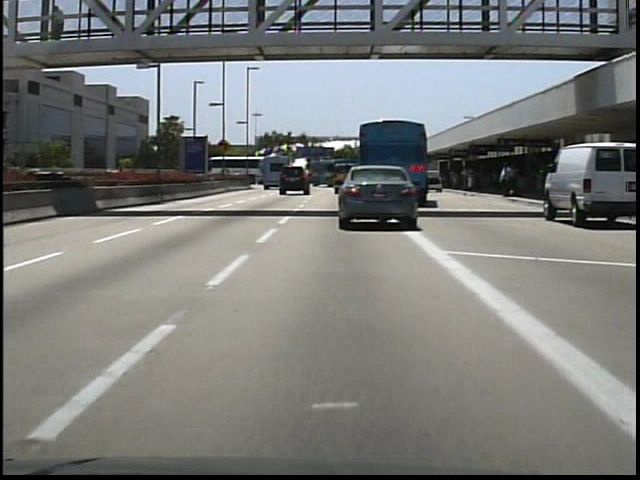person: (49, 6, 72, 53), (500, 161, 517, 200)
